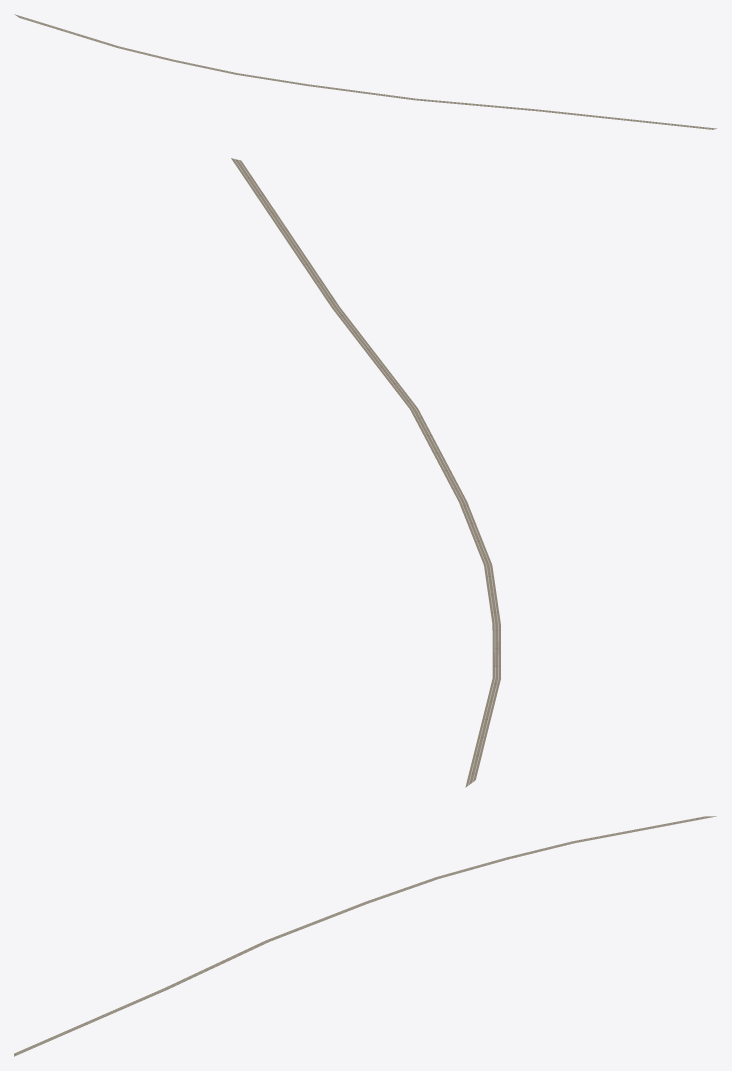
The picture shows the model from 3 angles, top to bottom: view 1: azimuth 30°, elevation 25°; view 2: azimuth 150°, elevation 25°; view 3: azimuth 270°, elevation 25°; orthographic projection. The views are drawn at different scales.
Parts seen in each view (by area): view 1: rail; view 2: rail; view 3: rail.
Part boxes in pixels (box(x1,y1,x2,y2)): rail: box(14, 14, 716, 129); rail: box(231, 158, 500, 787); rail: box(14, 816, 716, 1056).
Size of the model in its own units: 403 by 0.04 by 498.
